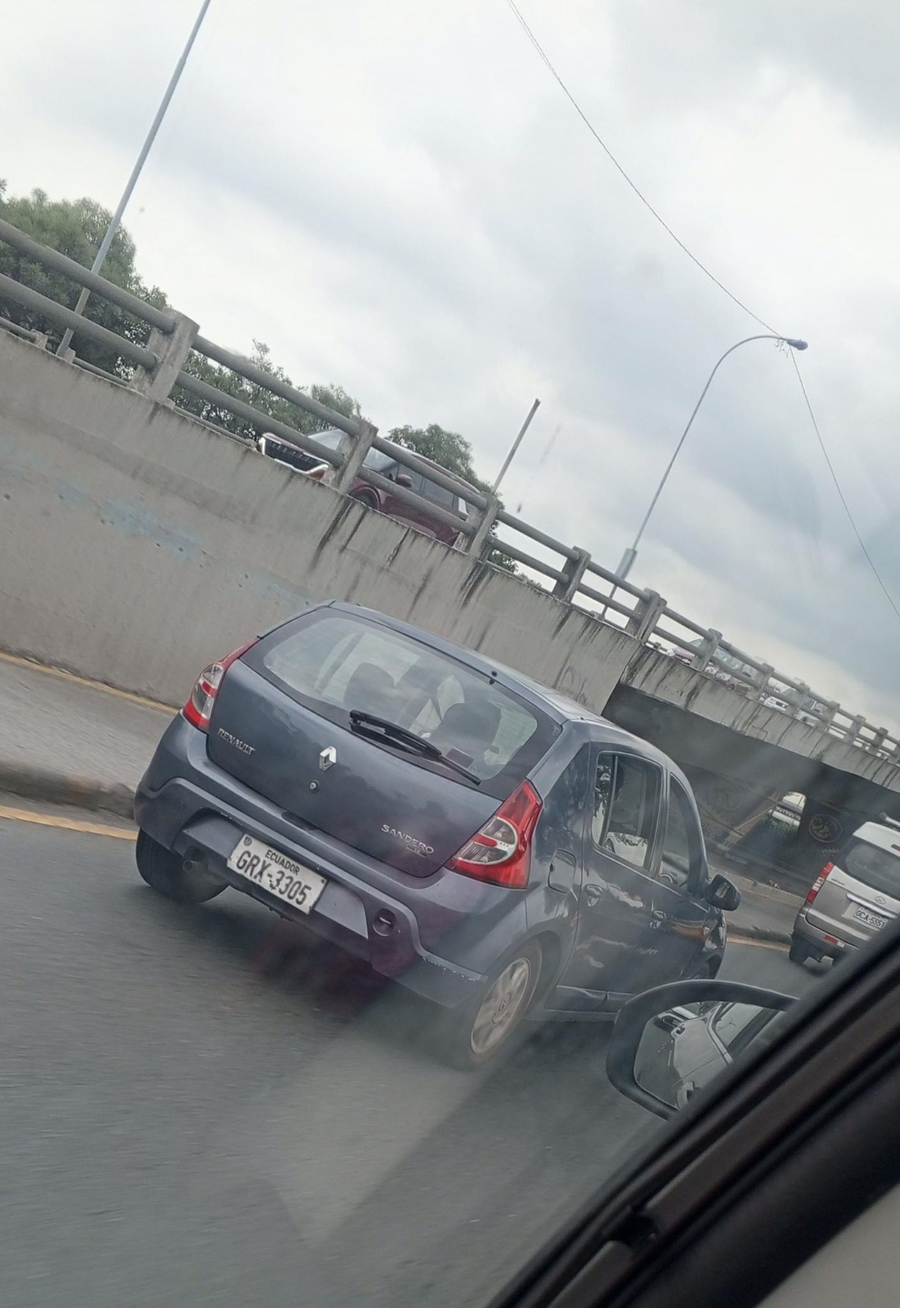license_plate: (227, 833, 329, 916), (846, 900, 891, 930)
